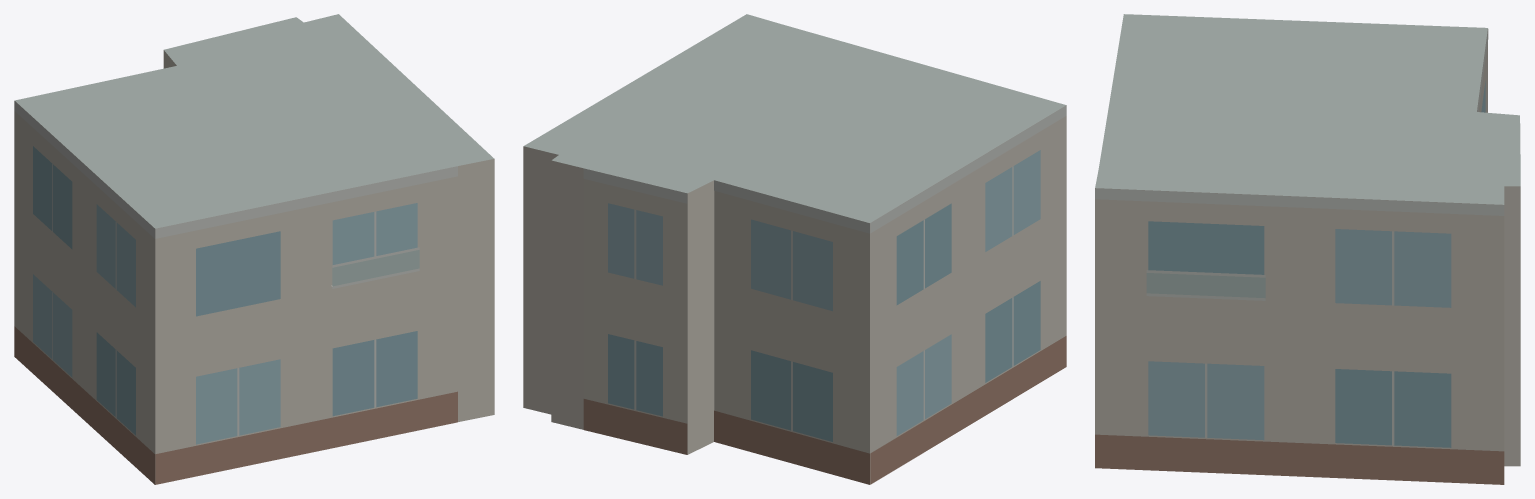
The model's file is survey-upis-32685457.glb.
The picture shows the model from 3 angles, left to right: view 1: azimuth 30°, elevation 25°; view 2: azimuth 150°, elevation 25°; view 3: azimuth 270°, elevation 25°; orthographic projection. The views are drawn at different scales.
Parts seen in each view (by area): view 1: survey-upis-32685457.tmp; view 2: survey-upis-32685457.tmp; view 3: survey-upis-32685457.tmp.
Boxes of the visible parts, x1,y1,x2,y2 form: survey-upis-32685457.tmp: (14, 14, 494, 484); survey-upis-32685457.tmp: (523, 14, 1066, 484); survey-upis-32685457.tmp: (1095, 14, 1520, 484).
Size of the model in its own units: 8.93 by 6.1 by 8.41.
